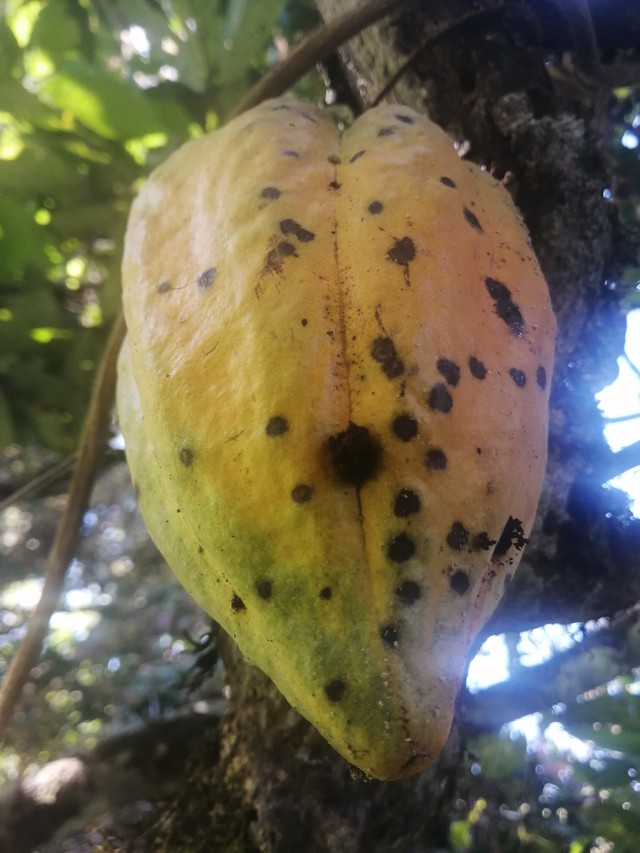carmenta foraseminis: (114, 86, 565, 805)
